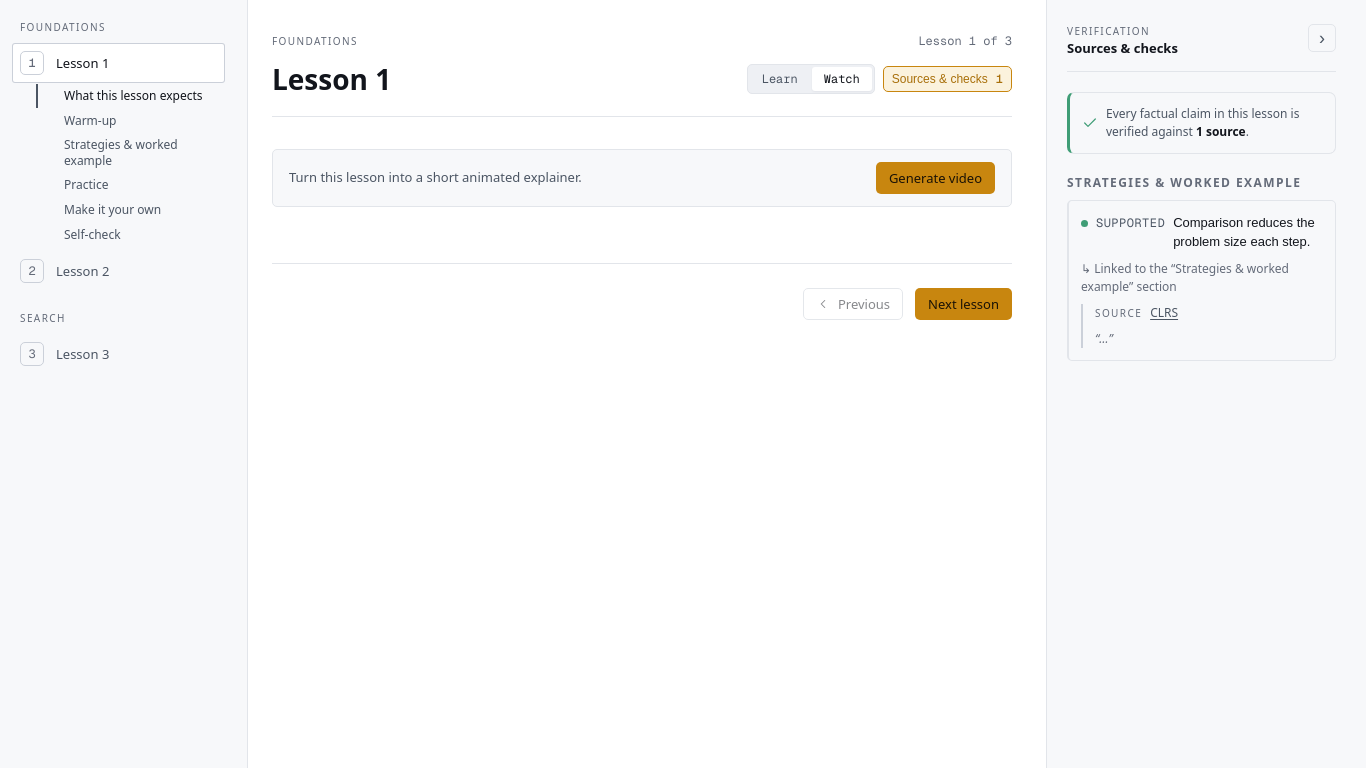
Test: CourseReader — Watch-mode footer navigation › steps back with Previous and disables it on the first lesson
Expected: the radio button labelled "Watch" is shown, top-left (812, 67), bottom-right (872, 91)
What coordinates should you click on to do the following:
click the button "3 Lesson 3"
I would click on:
 (118, 354)
Its box is top-left (12, 334), bottom-right (225, 374).
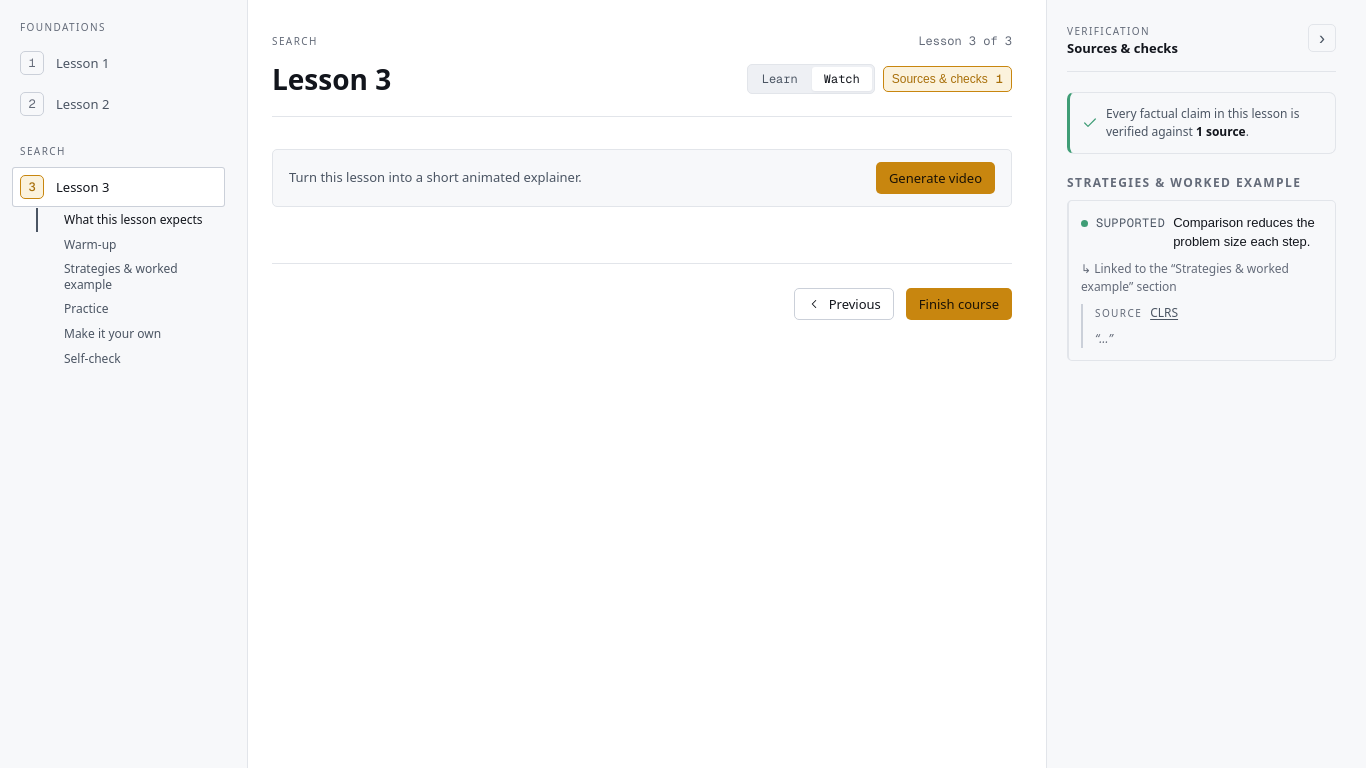
Note: Act — step back one lesson.
What coordinates should you click on to do the following:
click the button with aria-label "previous lesson"
I would click on:
 (844, 304)
Its box is top-left (794, 288), bottom-right (894, 320).
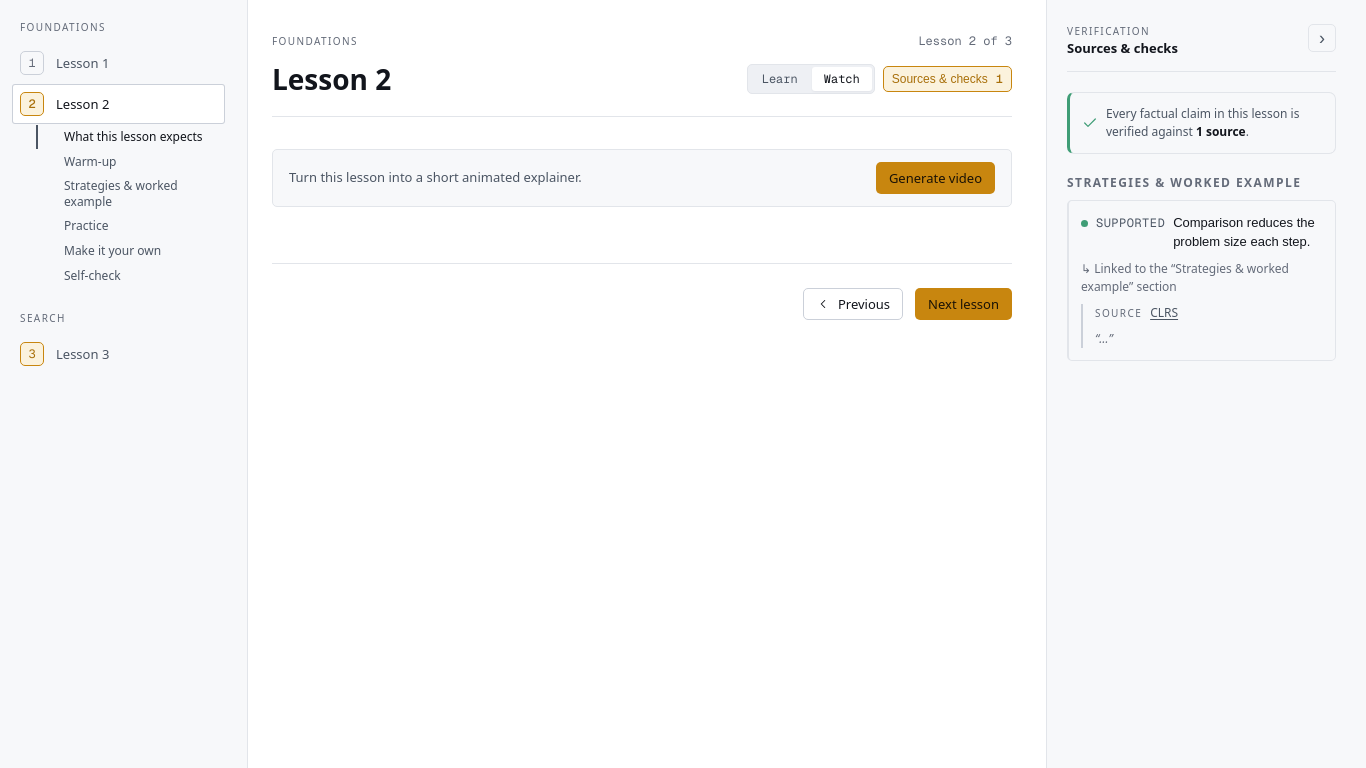
Result: the text "Lesson 2 of 3" is shown at top-left (918, 32), bottom-right (1012, 50)
What coordinates should you click on to do the following:
click the button with aria-label "previous lesson"
I would click on:
 (853, 304)
Its box is top-left (803, 288), bottom-right (903, 320).
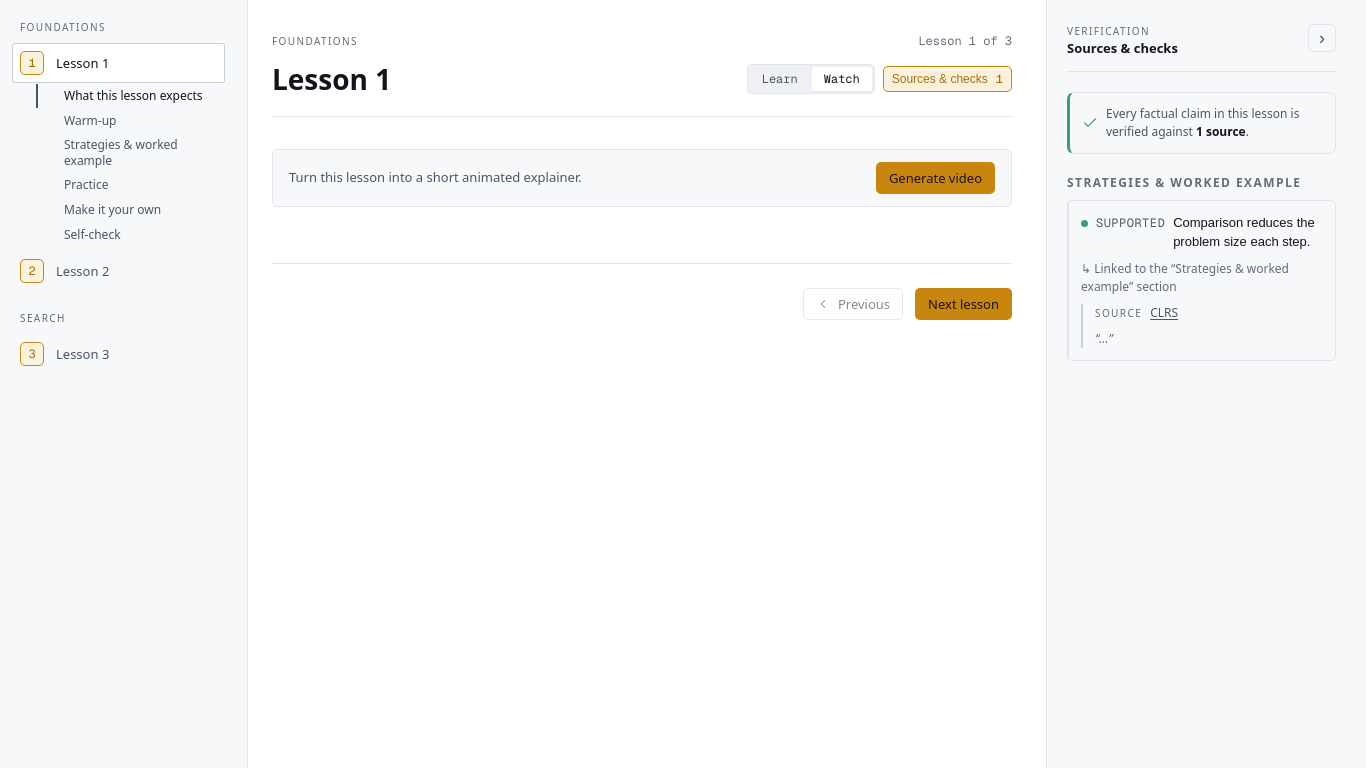
Result: the text "Lesson 1 of 3" is shown at top-left (918, 32), bottom-right (1012, 50)
Result: the button with aria-label "previous lesson" is disabled at top-left (803, 288), bottom-right (903, 320)
